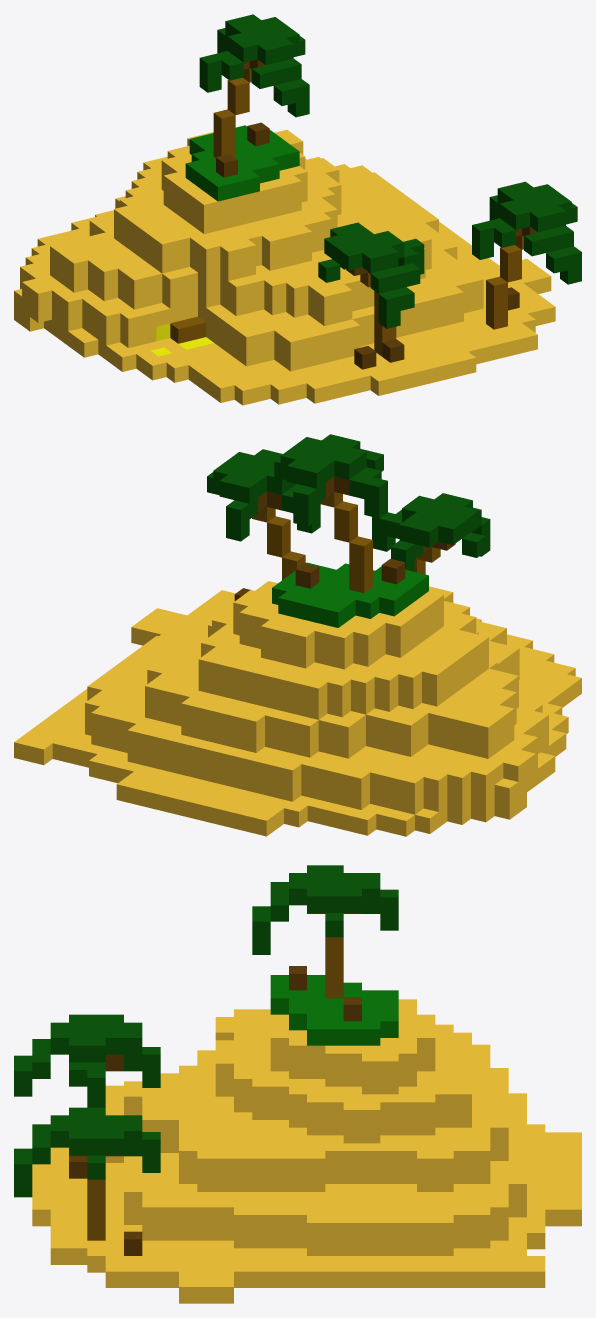
File: Island.obj
3 views of the same model, one above another, from view 1: azimuth 30°, elevation 25°; view 2: azimuth 150°, elevation 25°; view 3: azimuth 270°, elevation 25° (orthographic). The views are drawn at different scales.
Size of the model in its own units: 3.1 by 1.8 by 3.1.
1 material, 1 textured.
